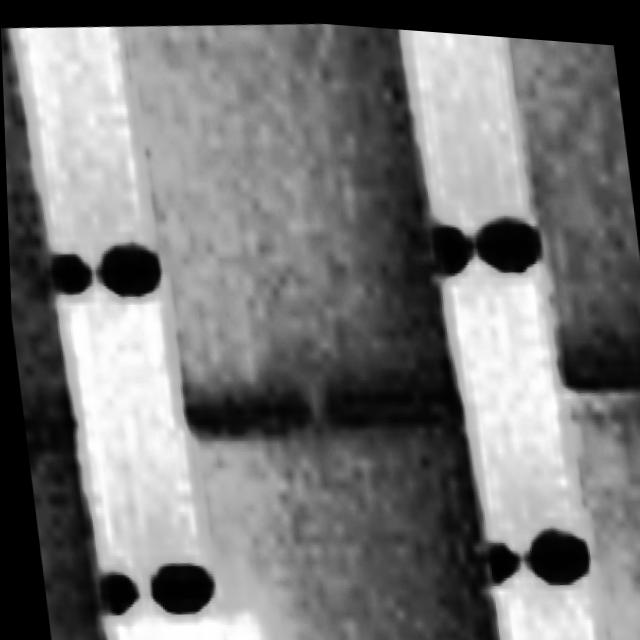Hotspots: (208, 583, 296, 640)
PV-modules: (116, 18, 460, 427), (179, 398, 503, 640), (501, 29, 640, 390), (1, 26, 74, 434), (555, 387, 640, 640), (21, 429, 107, 640)
